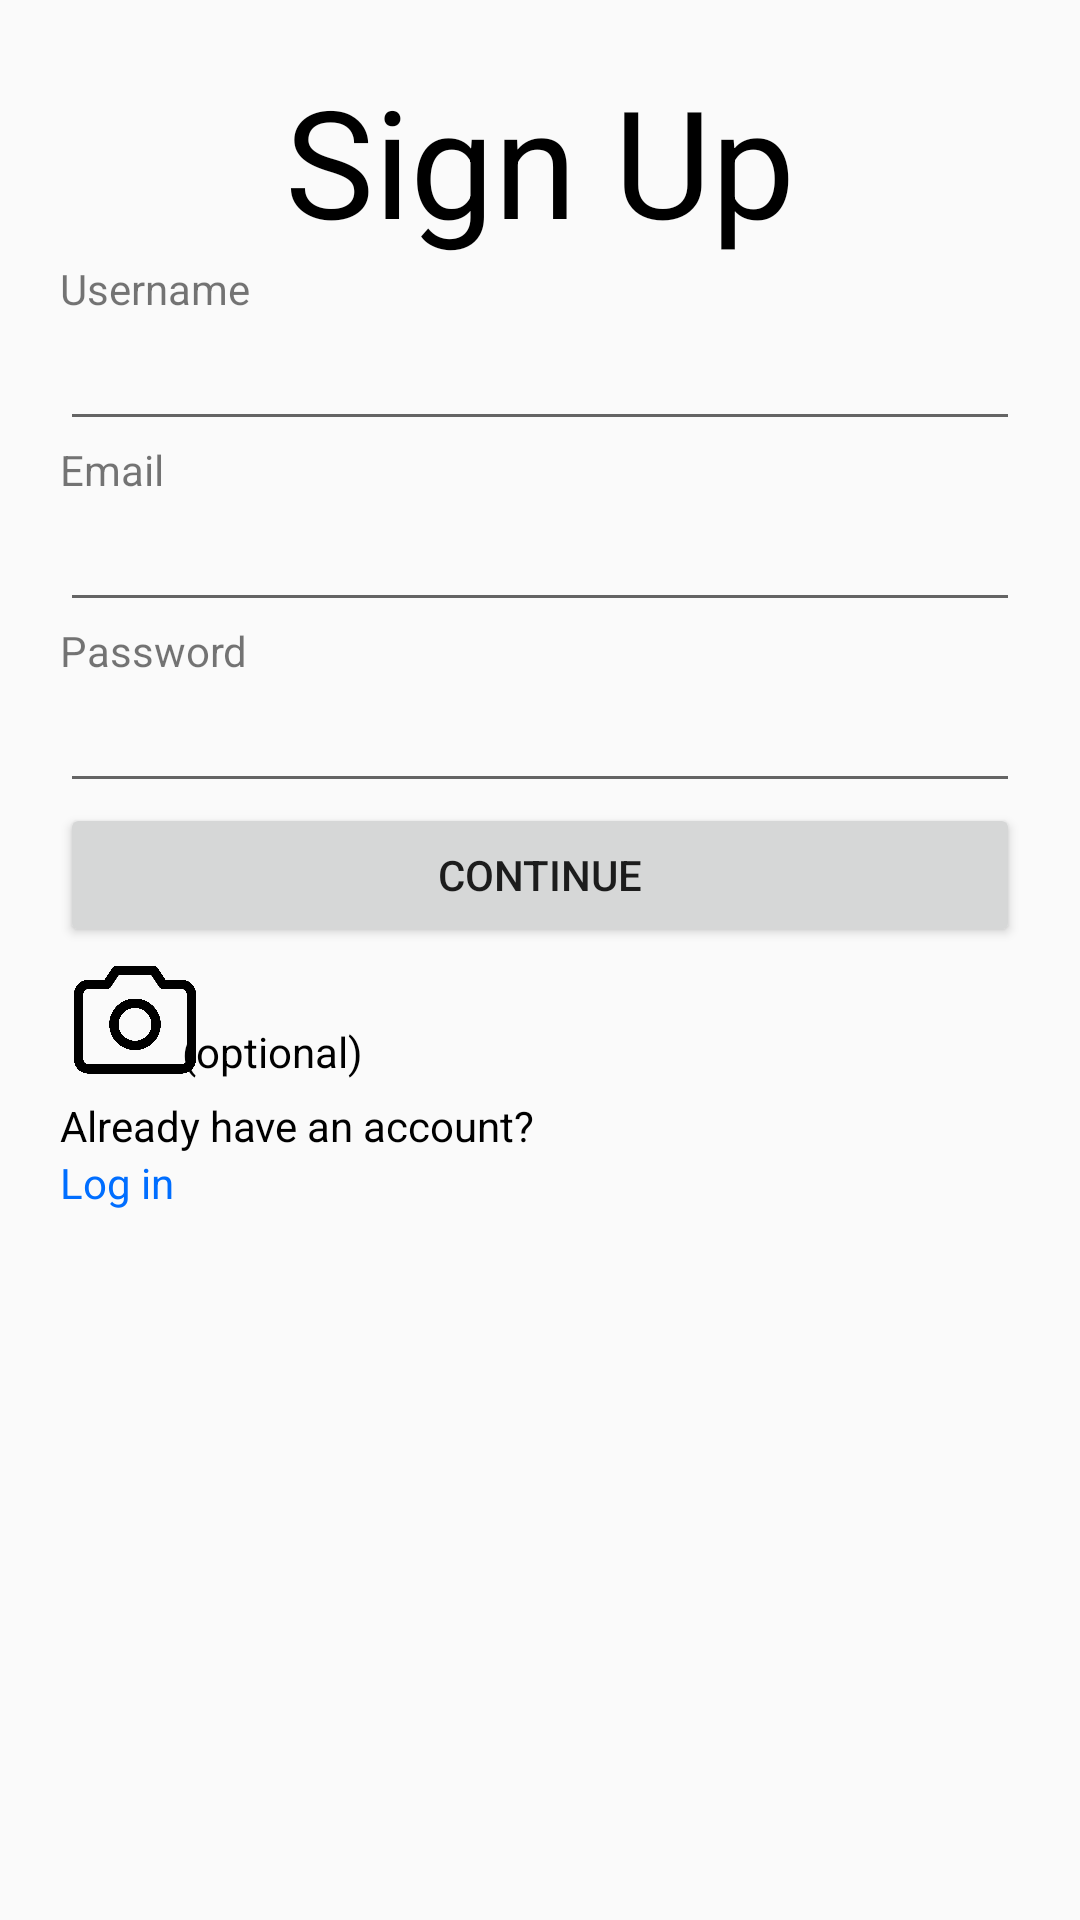

Named icons in this screenshot (1080*1920) and their bounding boxes, (x1, y1, x2, y2):
camera: (74, 966, 196, 1078)
